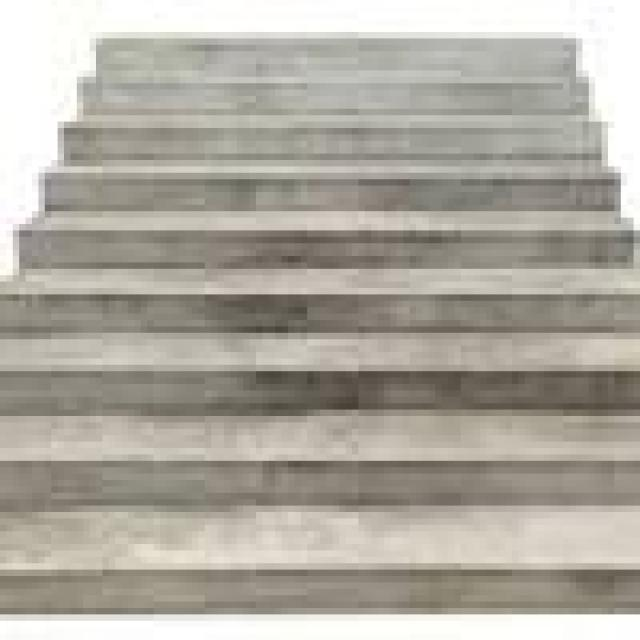upstair: (1, 20, 628, 596)
